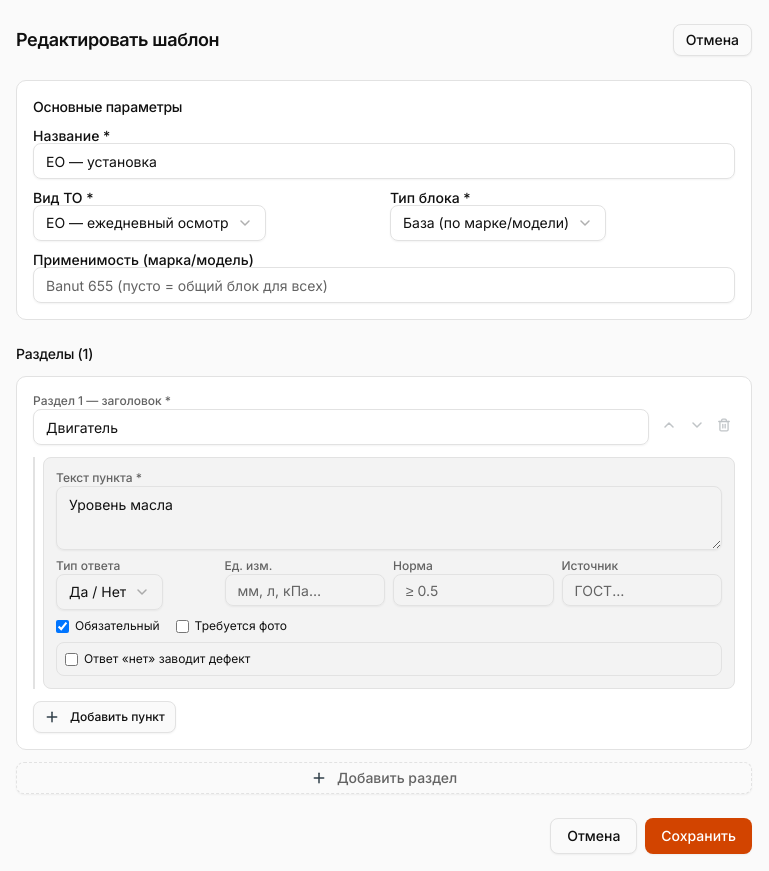
редактор шаблона: сбой сохранения правки (F-R123-1) › ошибка при сохранении правки объясняет, что действующая версия могла исчезнуть
Click the button "Сохранить" at (699,836), box [645,818,752,854]
(page scrolled)
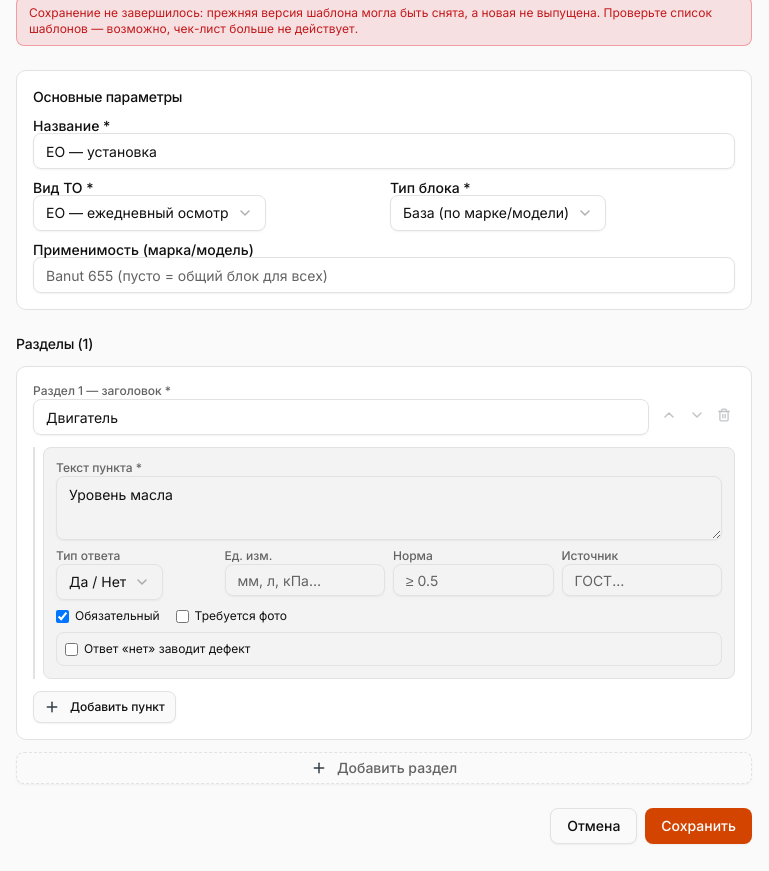
Expected: the button "Сохранить" is shown, [645,808,752,844]
Expected: the message shows "прежняя версия шаблона могла быть снята", [29,5,712,36]
Expected: the message shows "Проверьте список шаблонов", [29,5,712,36]
